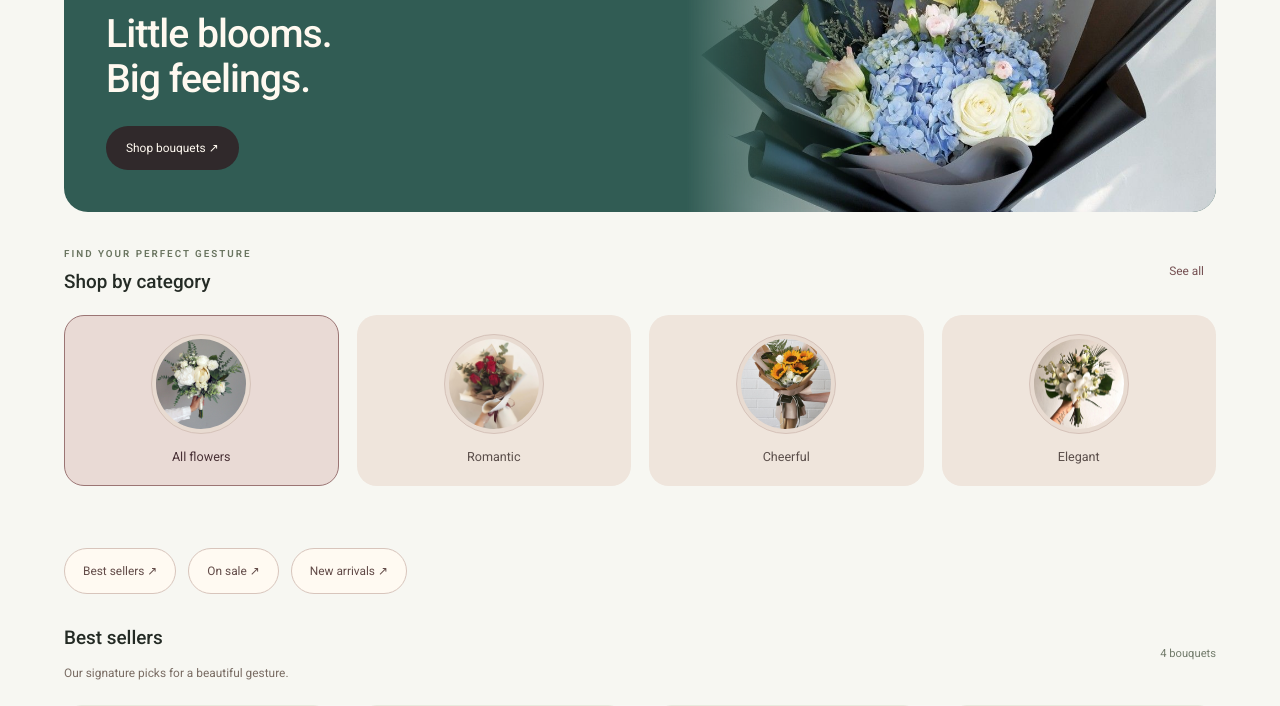
Test: storefront shows categories and three distinct shoppable collections
(page scrolled)
Expected: the heading "Shop by category" is shown, [64, 270, 210, 293]
Step 1. Click the button "Elegant" → (1079, 400), box [942, 315, 1216, 486]
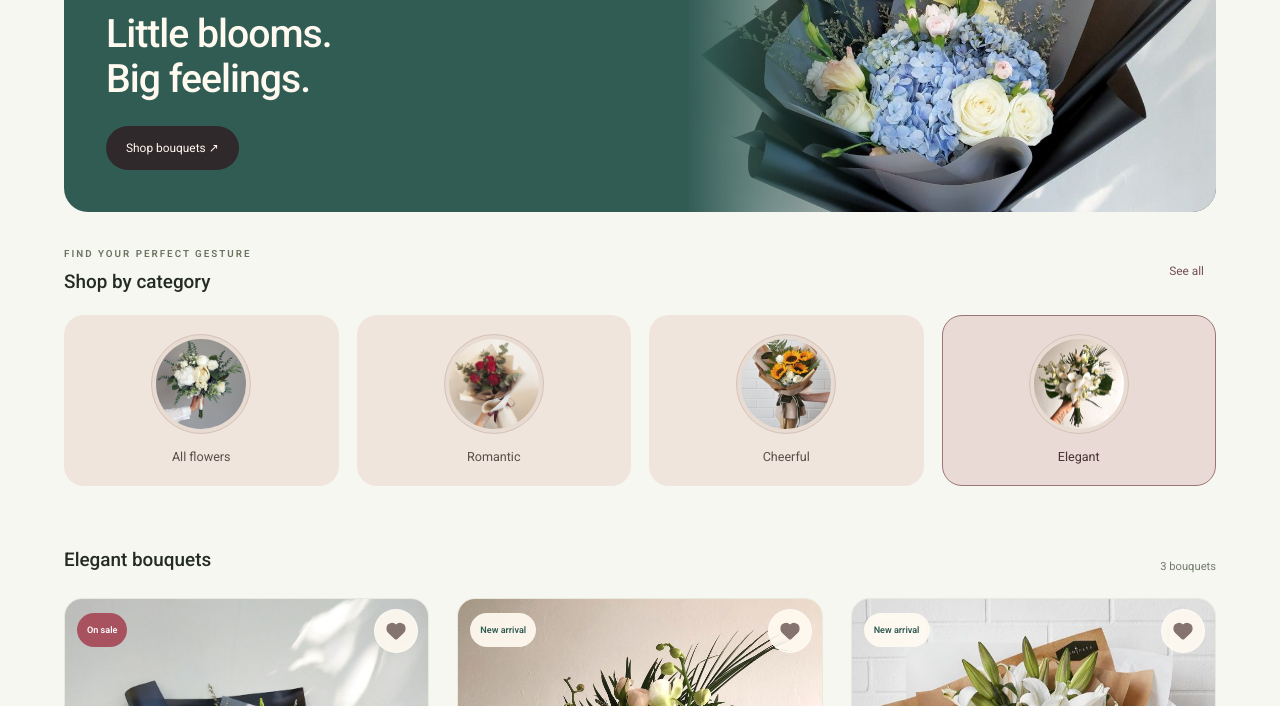
Expected: the link "Best sellers" is gone
Step 2. Click the button "See all" → (1187, 271), box [1157, 249, 1216, 293]
(page scrolled)
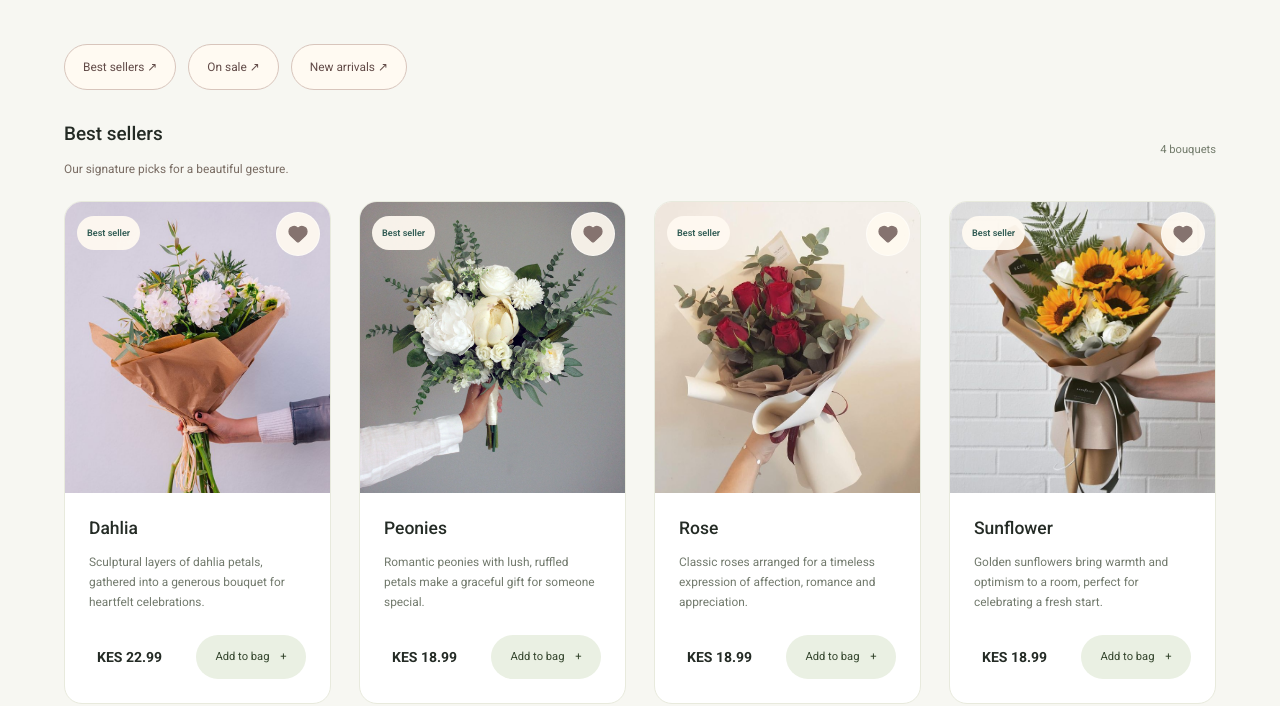
Expected: the element "Best sellers" is shown
